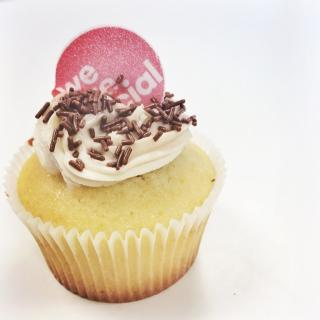Ice cream: (31, 90, 200, 190)
Muffin: (2, 86, 229, 303)
